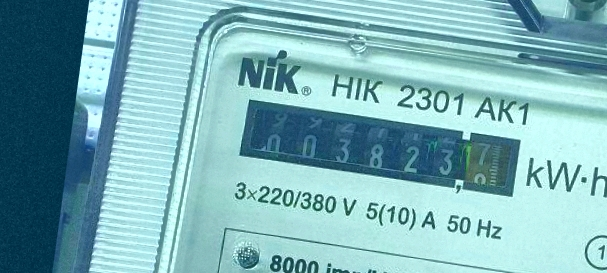0: (296, 129, 320, 159), (262, 129, 283, 154)
2: (400, 141, 423, 176)
3: (435, 145, 457, 177), (332, 133, 353, 164)
7: (473, 140, 493, 170)
8: (365, 140, 386, 170)
9: (268, 108, 288, 129)
screen: (231, 93, 525, 202)
